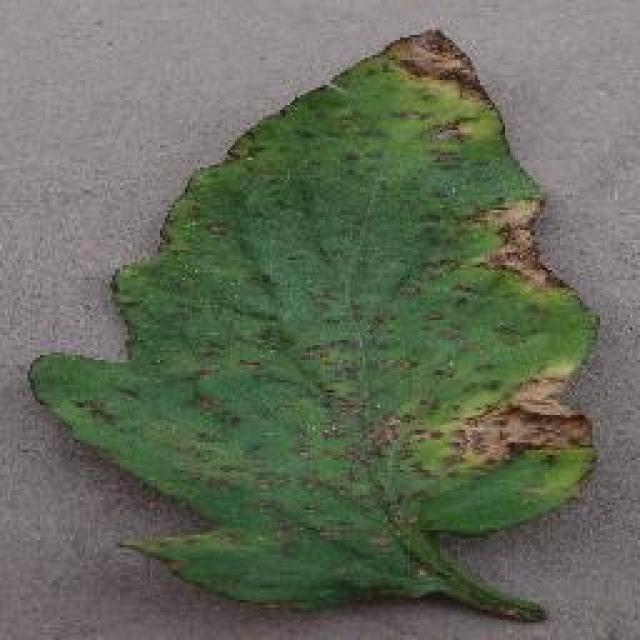Tomato bacterial spot leaf: (30, 31, 598, 621)
